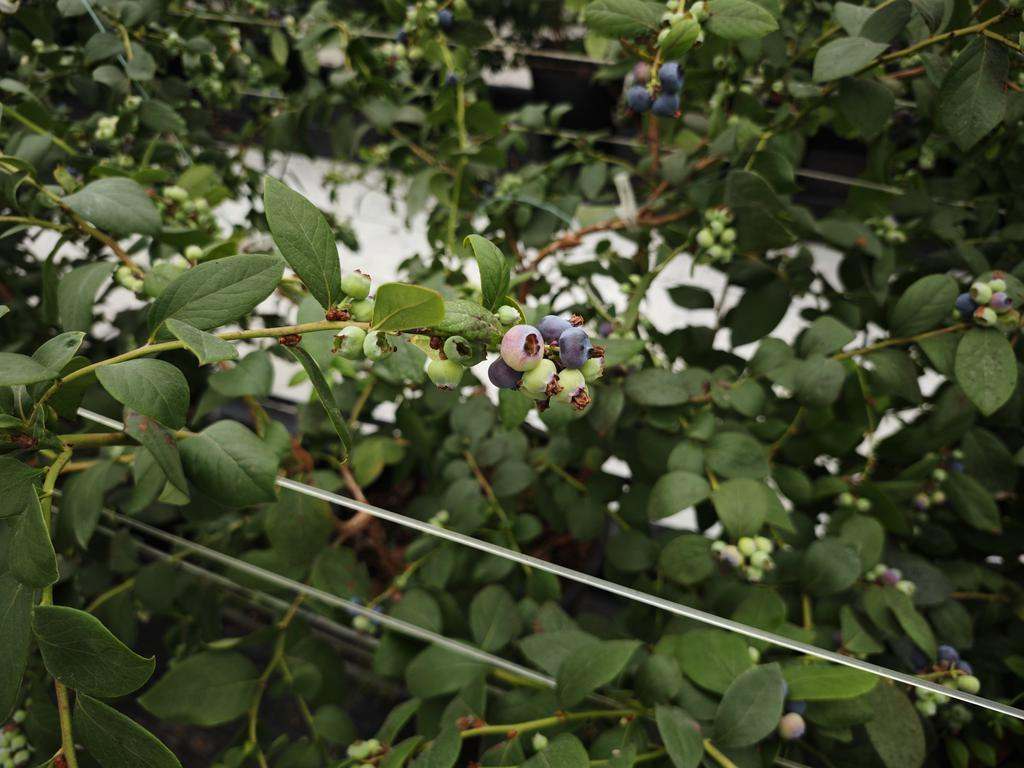RipeBlueBerry: (558, 326, 597, 370), (657, 60, 688, 95), (650, 93, 683, 119), (621, 85, 650, 112)
Semi-RipeBlueBerry: (501, 322, 545, 373)
UnripeBlueBerry: (553, 369, 593, 408)
